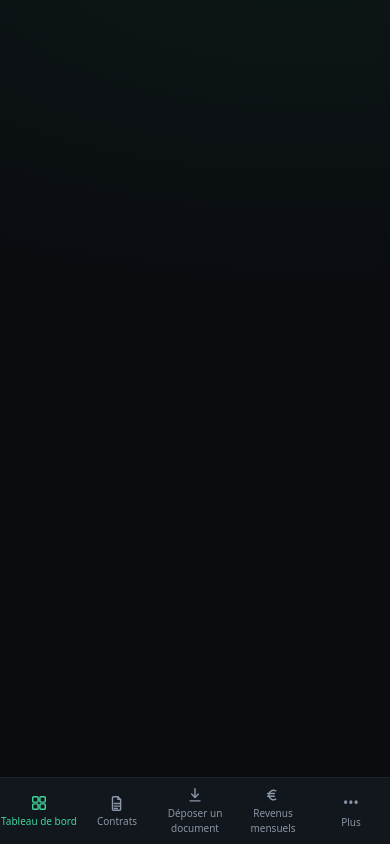
Test: BottomTabBar — la feuille « Plus » › s'ouvre au clic sur Plus et liste les onglets restants
This screenshot has width=390, height=844.
Click the button "••• Plus".
click(351, 811)  # box [312,778,389,843]
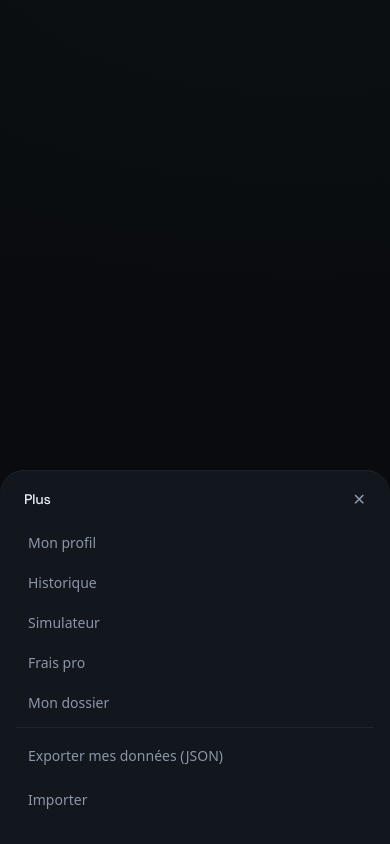
Check: the button "Mon profil" is shown, box [16,523,374,563]
Check: the button "Historique" is shown, box [16,563,374,603]
Check: the button "Simulateur" is shown, box [16,603,374,643]
